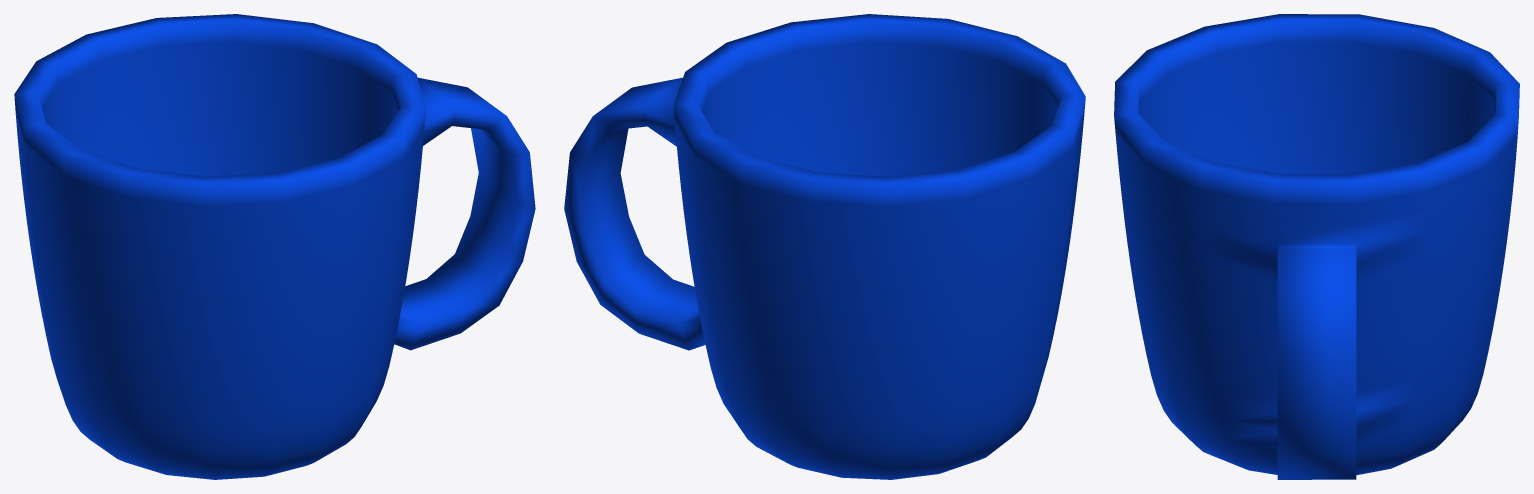
File: mug-2.glb
3 views of the same model, side by side, from view 1: azimuth 30°, elevation 25°; view 2: azimuth 150°, elevation 25°; view 3: azimuth 270°, elevation 25° (orthographic).
Visible parts, largest first — view 1: BezierCurve; view 2: BezierCurve; view 3: BezierCurve.
Boxes of the visible parts, left/top/right/bottom form: BezierCurve: left=14, top=14, right=535, bottom=479; BezierCurve: left=564, top=14, right=1085, bottom=479; BezierCurve: left=1114, top=14, right=1519, bottom=479.
Size of the model in its own units: 2.77 by 1.87 by 2.06.
